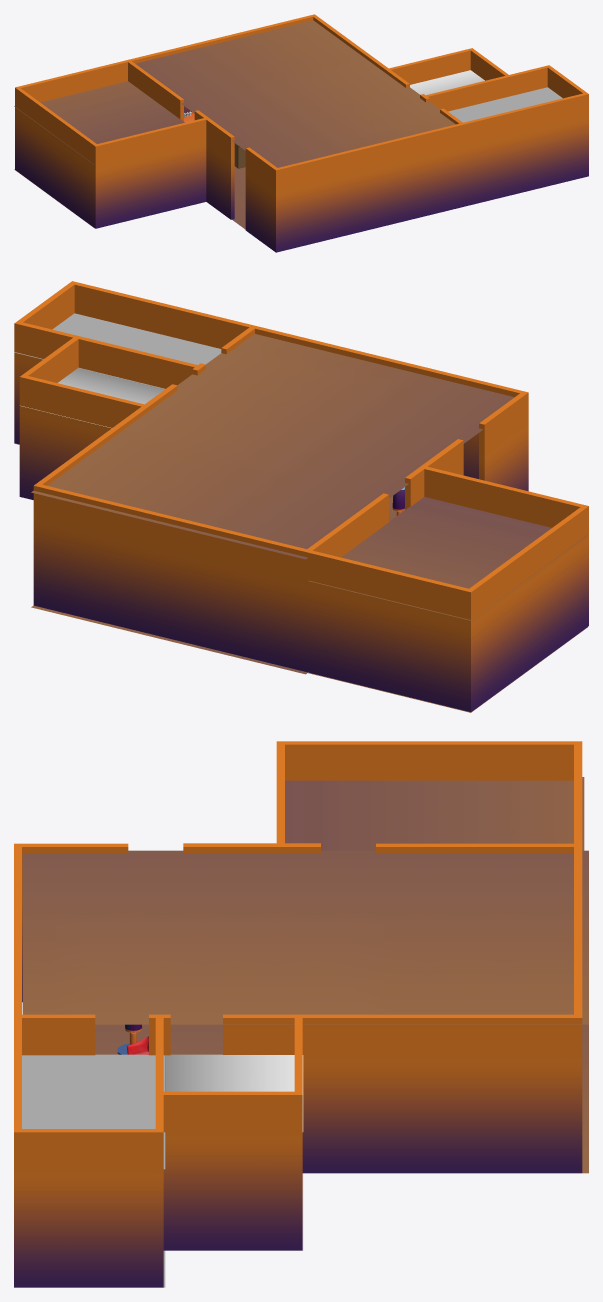
File: ThisHouseisaHome.FBX
3 renders of one model, top to bottom at view 1: azimuth 30°, elevation 25°; view 2: azimuth 150°, elevation 25°; view 3: azimuth 270°, elevation 25°, orthographic. The views are drawn at different scales.
Parts seen in each view (by area): view 1: Walls, Kitchen/Living001, Bedroom001, Bathroom001, Laundry001, Kitchen/Living; view 2: Walls, Kitchen/Living001, Bedroom001, Bathroom001, Laundry001, Kitchen/Living; view 3: Walls, Kitchen/Living001, Bedroom001, Bathroom001, Laundry001, Kitchen/Living.
Part boxes in pixels (x1,y1,x2,y2): Walls: (15, 14, 588, 252); Kitchen/Living001: (135, 20, 455, 167); Bedroom001: (14, 81, 184, 164); Bathroom001: (448, 87, 562, 122); Laundry001: (410, 70, 484, 95); Kitchen/Living: (232, 166, 245, 229); Walls: (14, 281, 588, 711); Kitchen/Living001: (31, 334, 514, 559); Bedroom001: (308, 497, 587, 620); Bathroom001: (14, 313, 221, 389); Laundry001: (20, 368, 164, 428); Kitchen/Living: (31, 496, 404, 674); Walls: (14, 741, 582, 1287); Kitchen/Living001: (22, 850, 588, 1024); Bedroom001: (285, 777, 584, 850); Bathroom001: (22, 1054, 165, 1169); Laundry001: (165, 1054, 303, 1131); Kitchen/Living: (95, 1024, 588, 1173).
Bounding box in the file's own units: 921 × 171 × 572.
